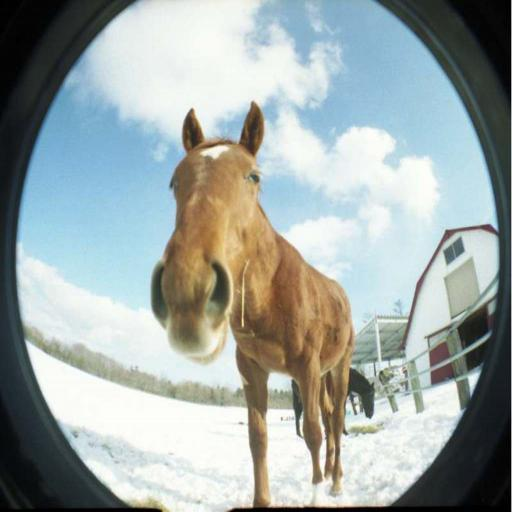horse: (150, 106, 368, 512), (290, 364, 376, 438)
